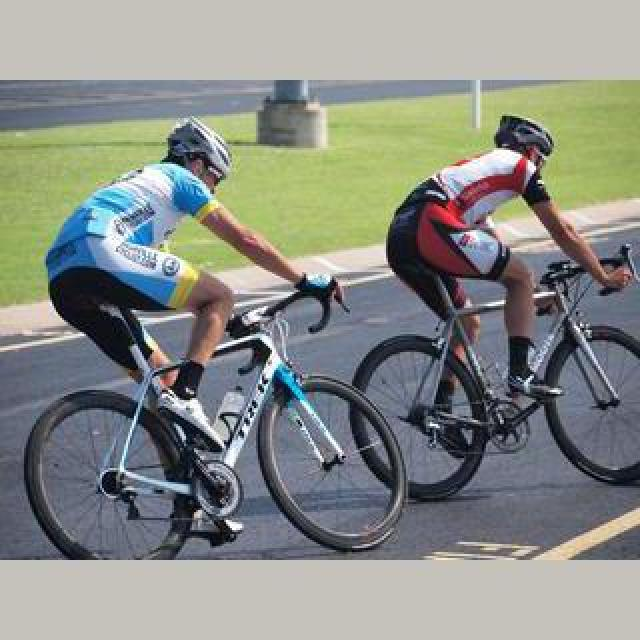MC-Bike: (42, 116, 336, 426), (386, 114, 632, 414)
Person: (23, 265, 399, 557), (346, 248, 640, 502)
